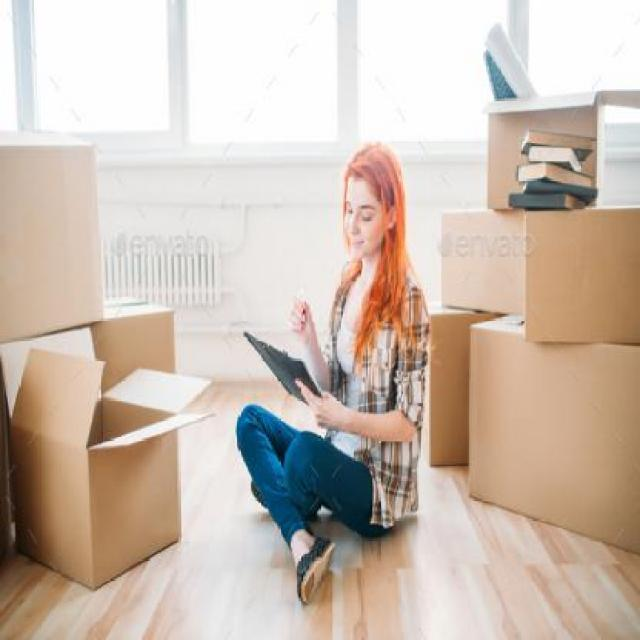box: (0, 363, 206, 594), (469, 306, 640, 562), (0, 130, 106, 342), (482, 91, 640, 211), (518, 201, 640, 347), (414, 305, 518, 470), (436, 206, 543, 322), (82, 294, 182, 398)
